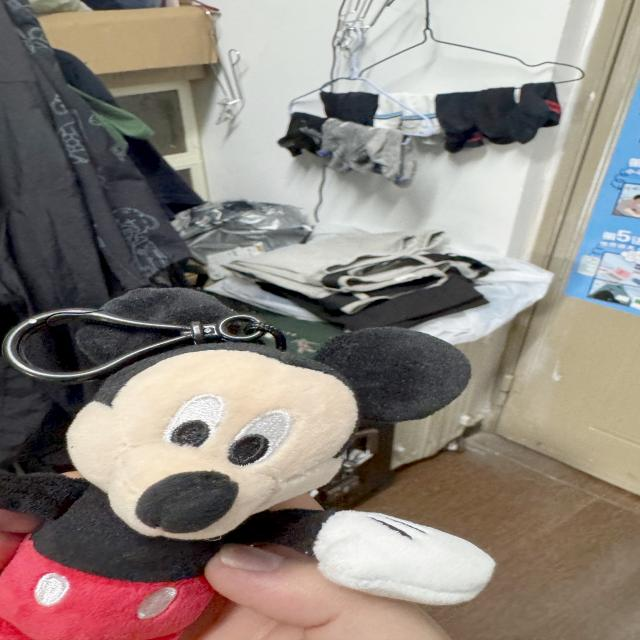mickey: (0, 289, 493, 639)
